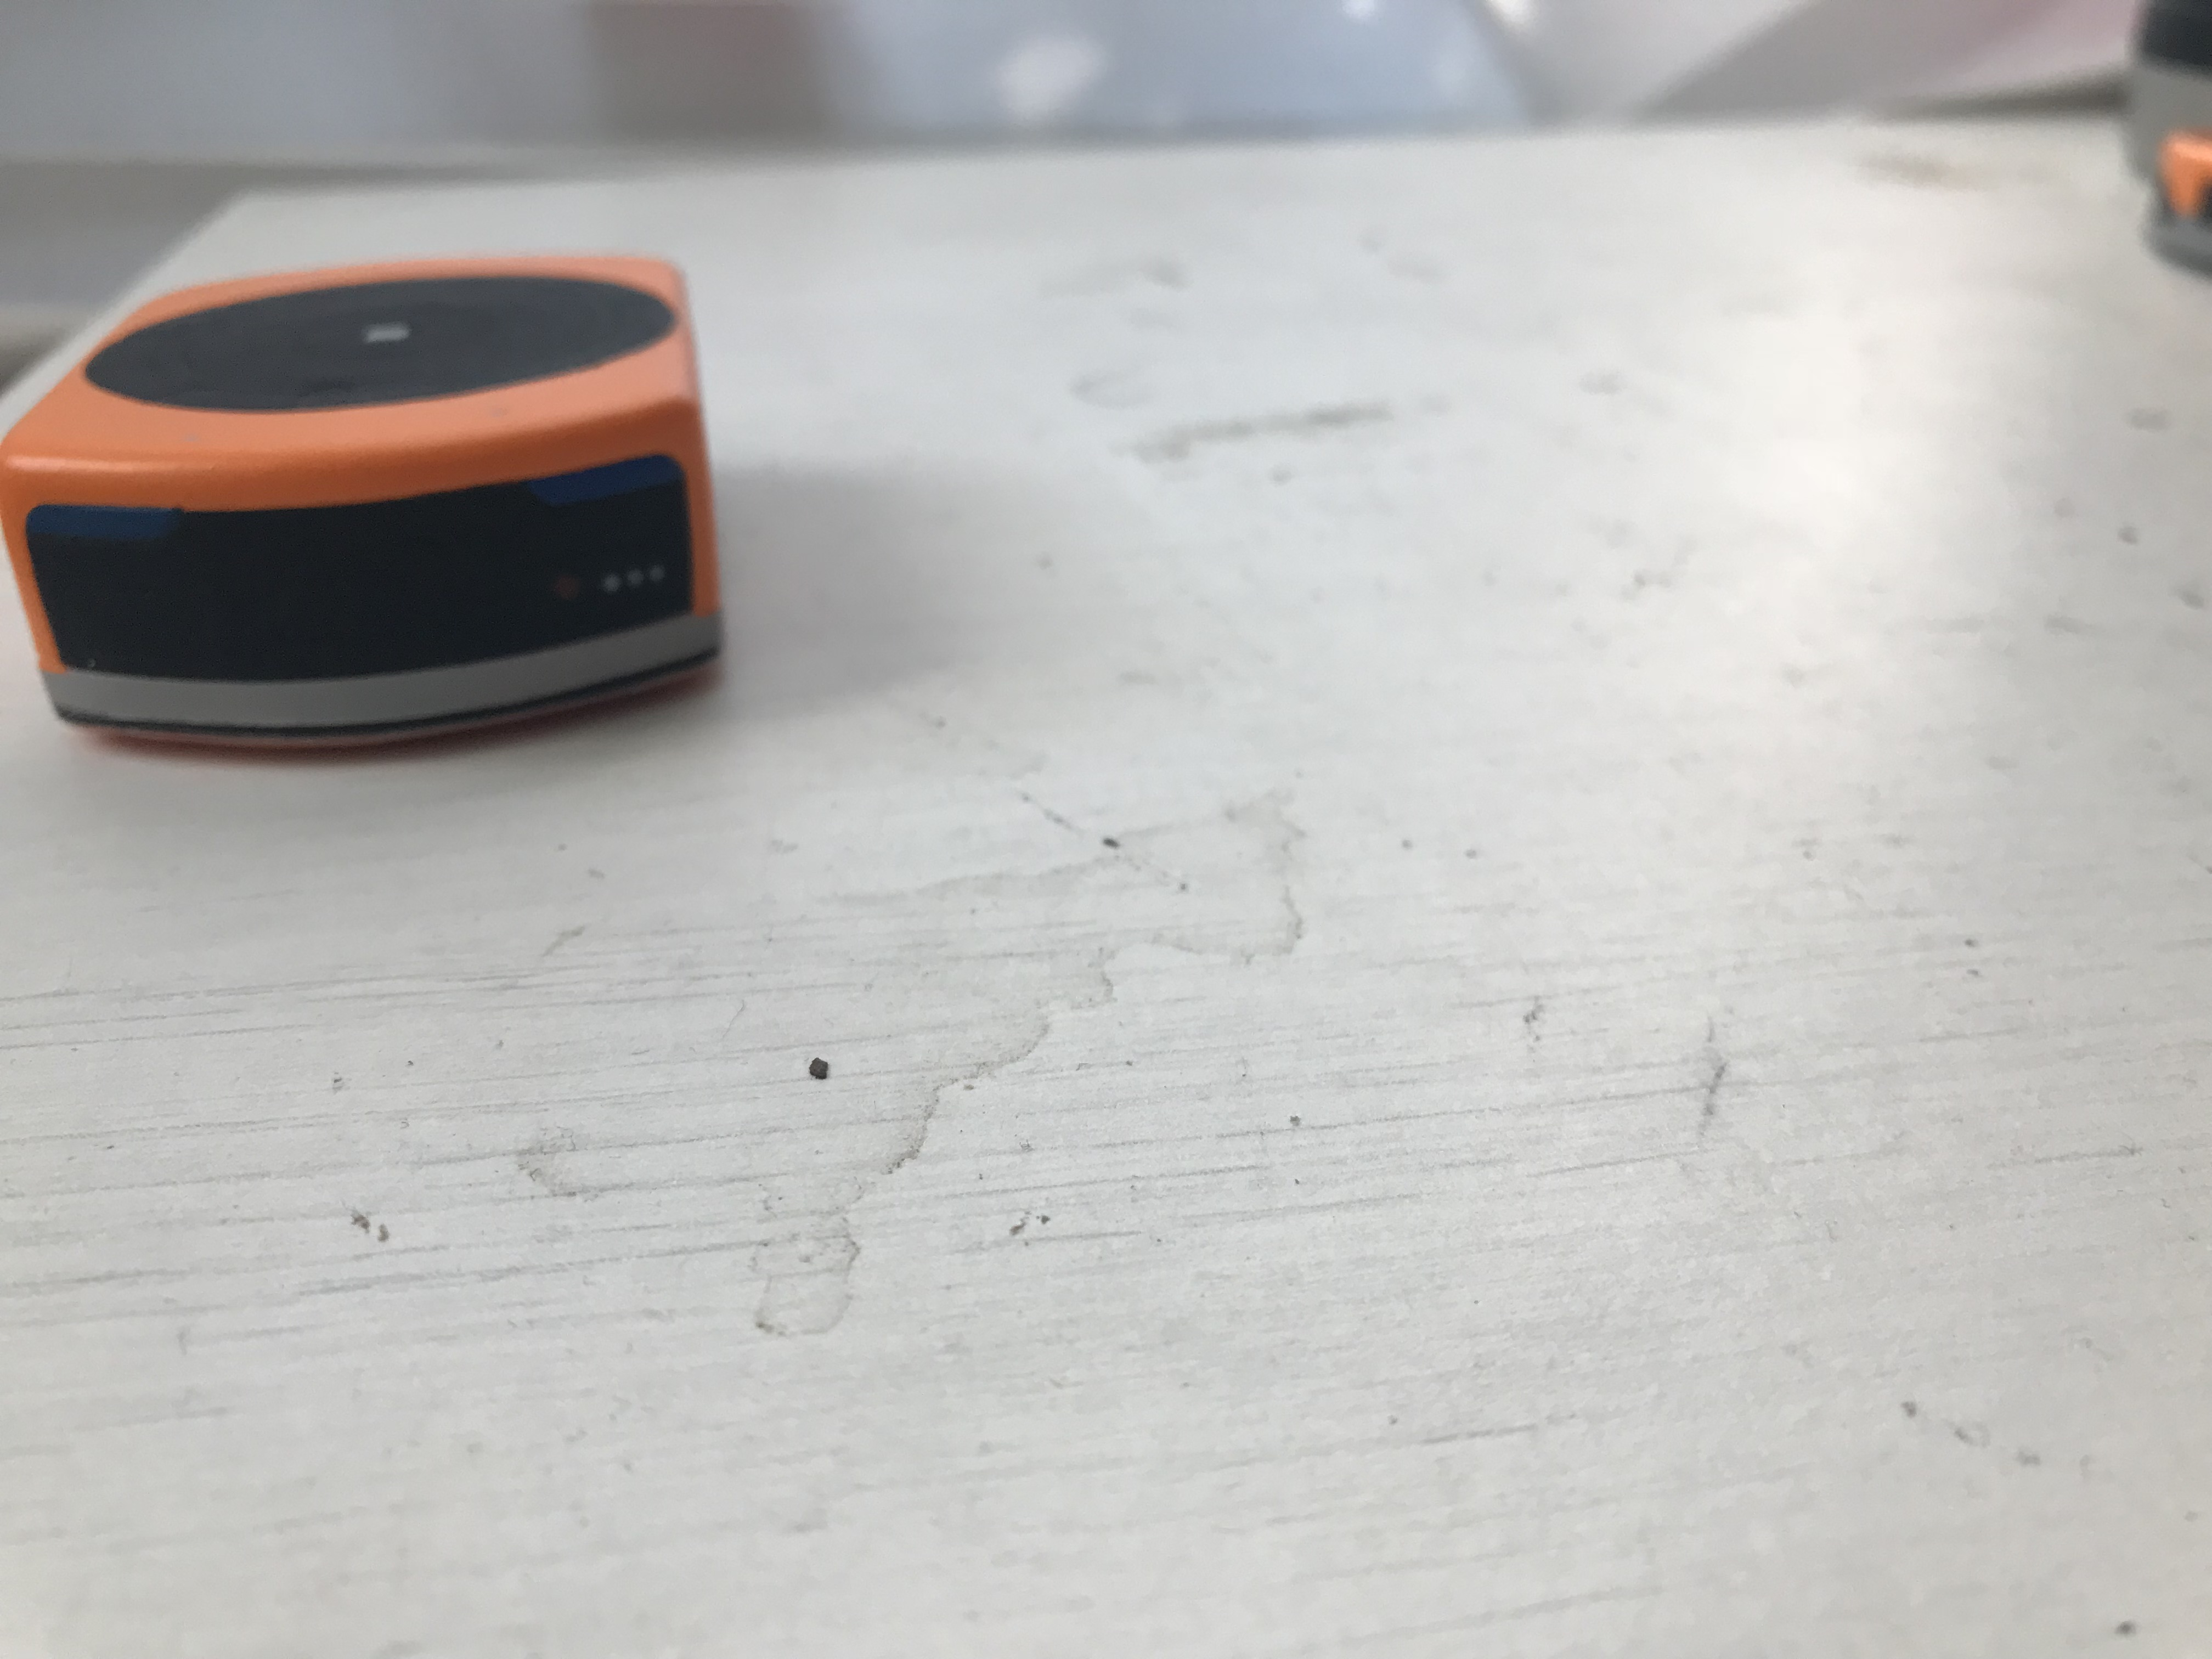amazon_bot: (3, 265, 773, 772)
